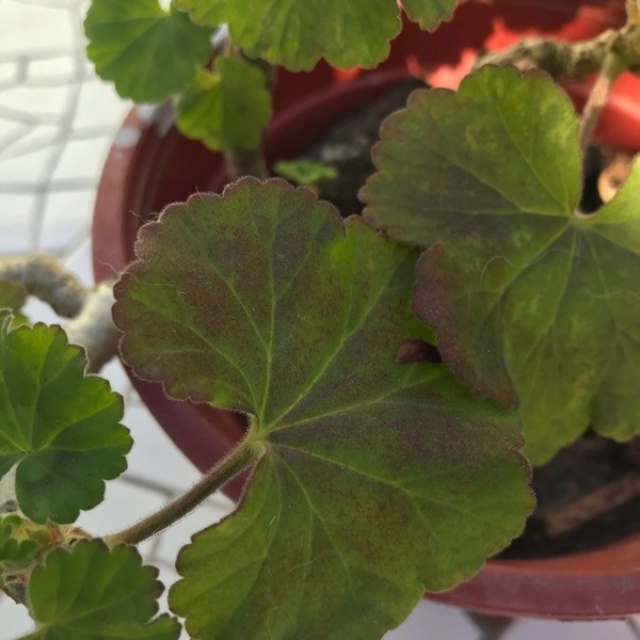obstacle: (102, 0, 621, 607)
